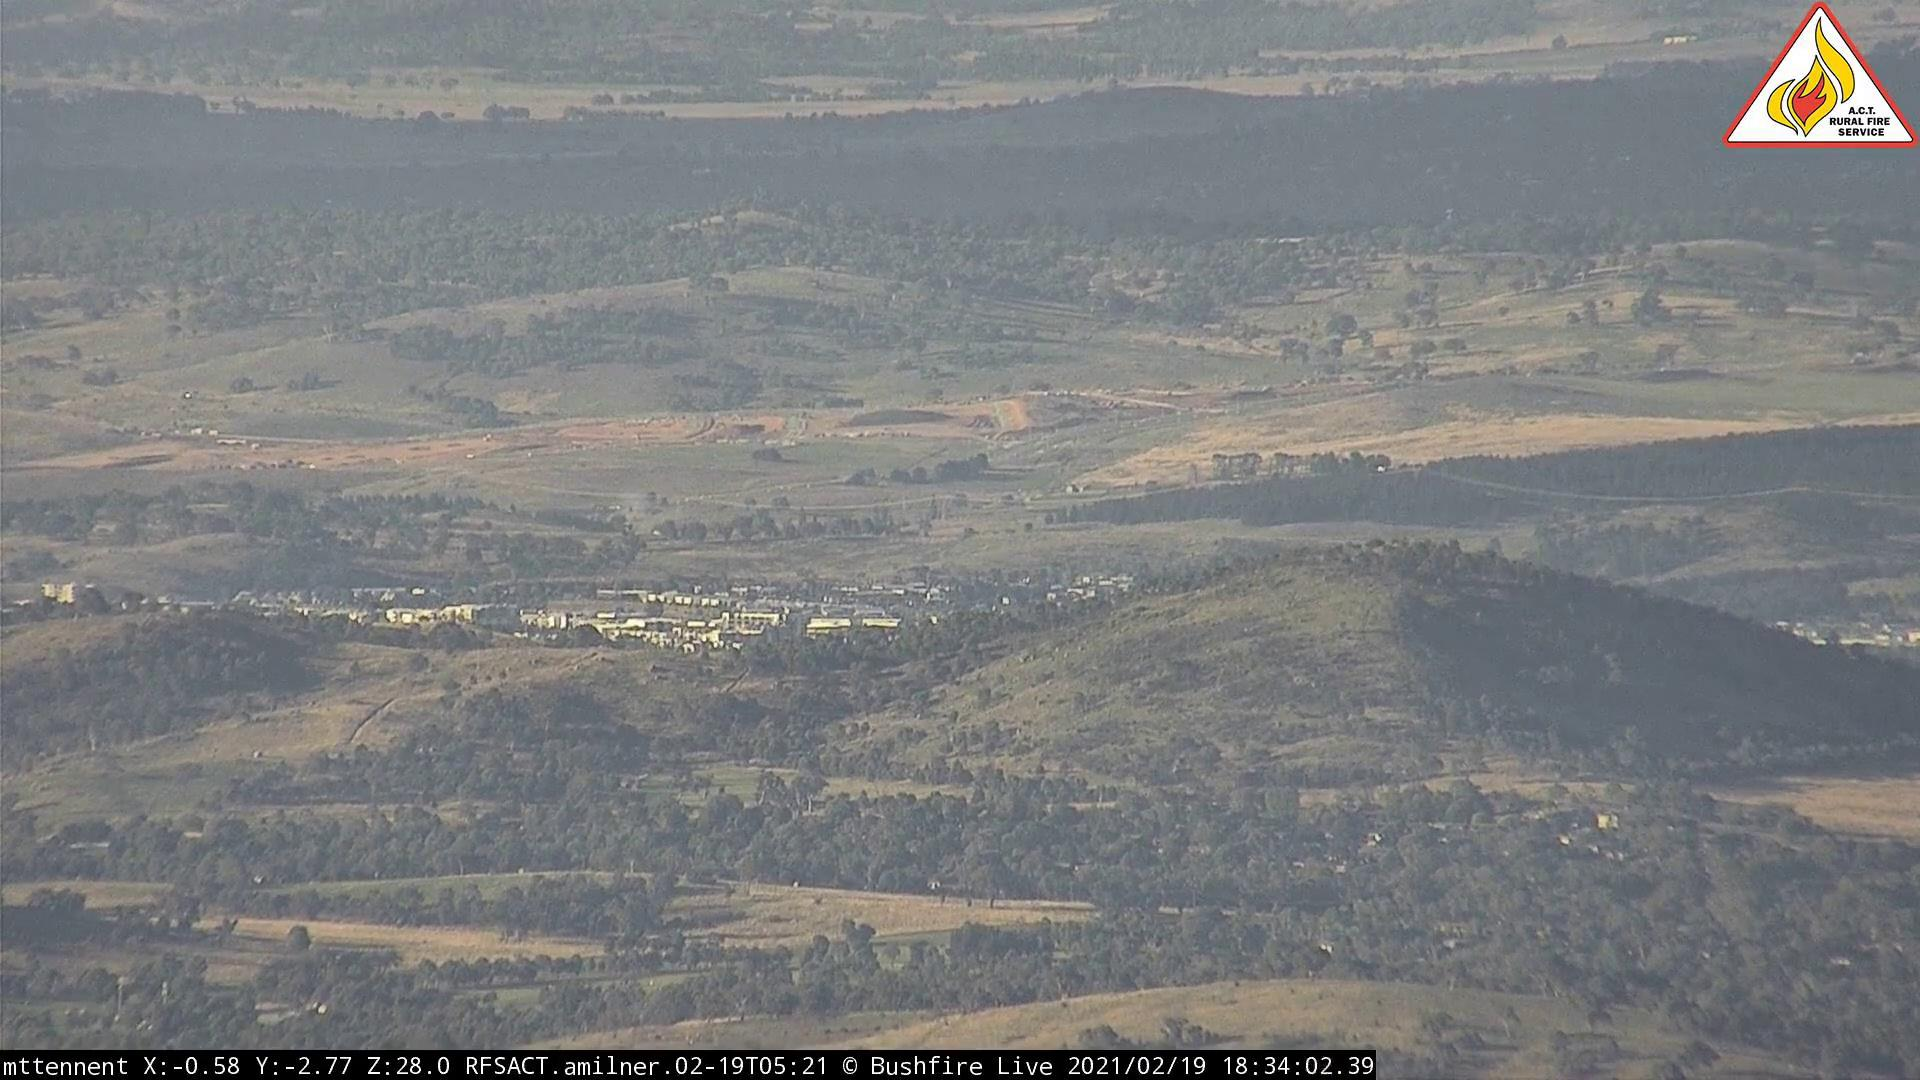Smoke: (615, 493, 667, 546)
